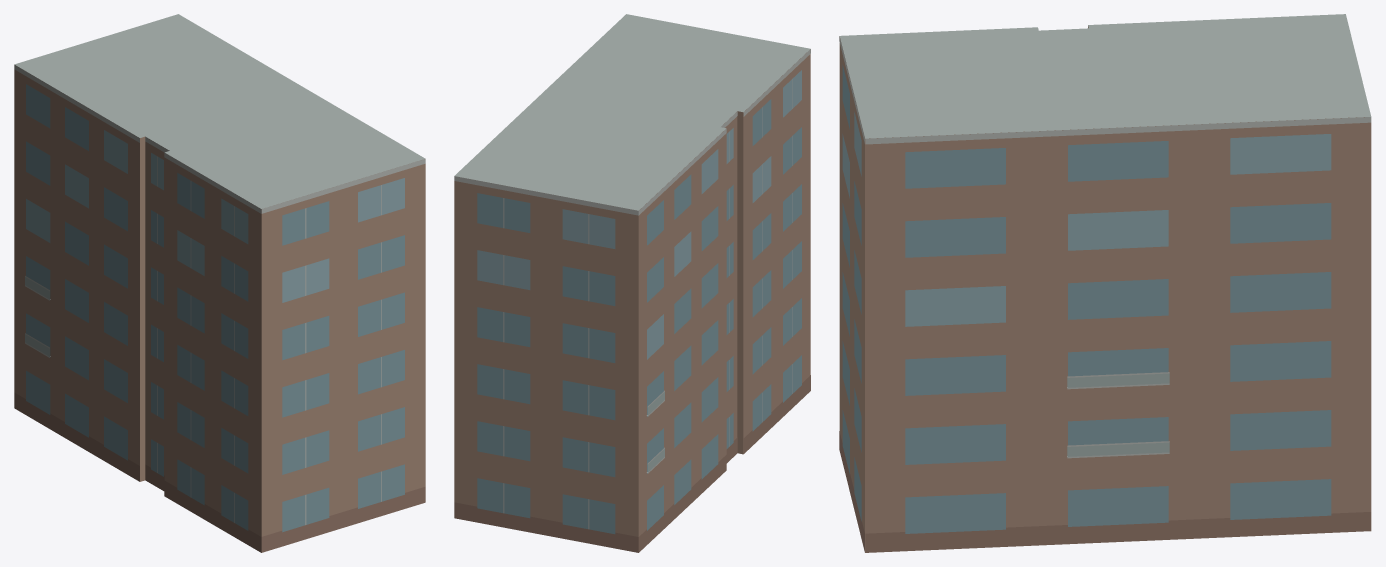
The model's file is survey-upis-32654164.glb.
The picture shows the model from 3 angles, left to right: view 1: azimuth 30°, elevation 25°; view 2: azimuth 150°, elevation 25°; view 3: azimuth 270°, elevation 25°; orthographic projection. The views are drawn at different scales.
Visible parts, largest first — view 1: survey-upis-32654164.tmp; view 2: survey-upis-32654164.tmp; view 3: survey-upis-32654164.tmp.
Part boxes in pixels (x1,y1,x2,y2): survey-upis-32654164.tmp: (14,14,425,552); survey-upis-32654164.tmp: (454,14,810,552); survey-upis-32654164.tmp: (839,14,1371,552).
Size of the model in its own units: 11.11 by 17.2 by 20.02.
